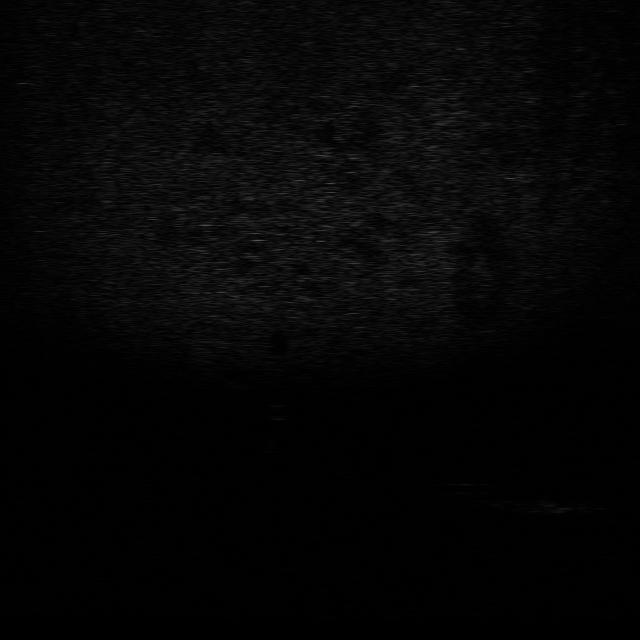ball: (260, 401, 294, 422)
metal bucket: (520, 495, 589, 517)
tyre: (452, 478, 522, 508)
